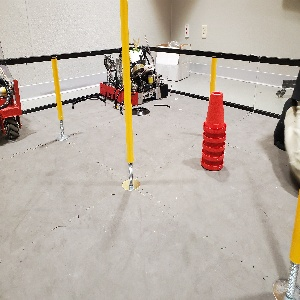Red_5: (200, 91, 226, 170)
